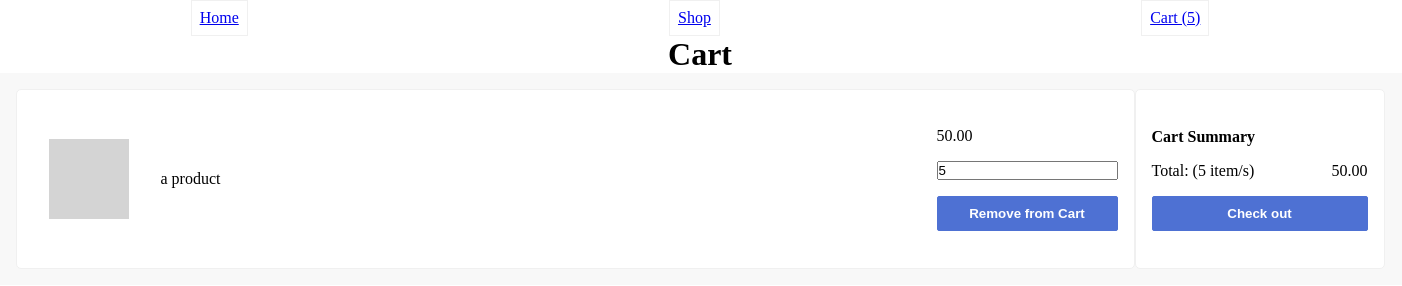
Scenario: CartItem component › when there is one item in the cart › when clicking the Remove from Cart button › removes the cart item from the cart
Step 1. Click the button "Remove from Cart" → (1027, 214), box 936,196 -> 1118,231
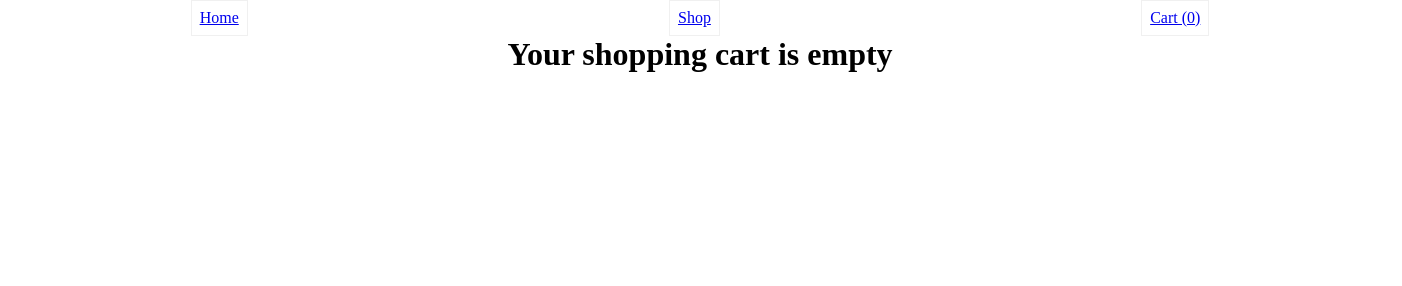
Result: the text "a product" is gone
